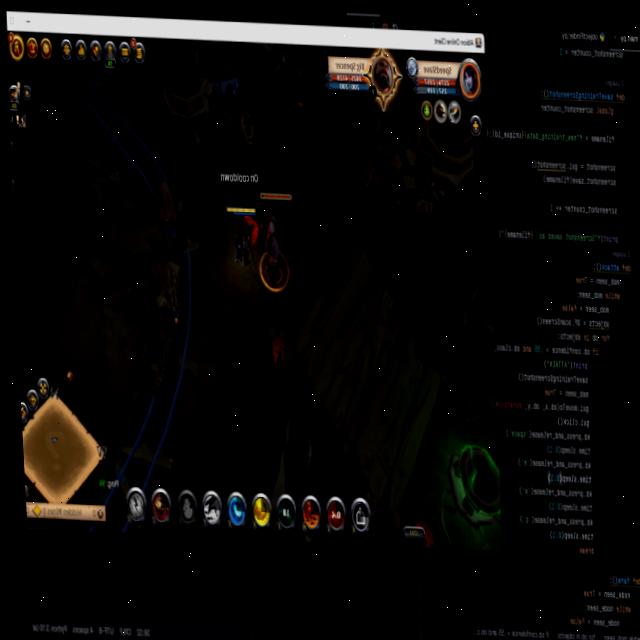ore: (249, 188, 298, 291)
red: (221, 202, 261, 272)
